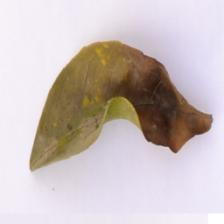black spot: (102, 72, 211, 146)
